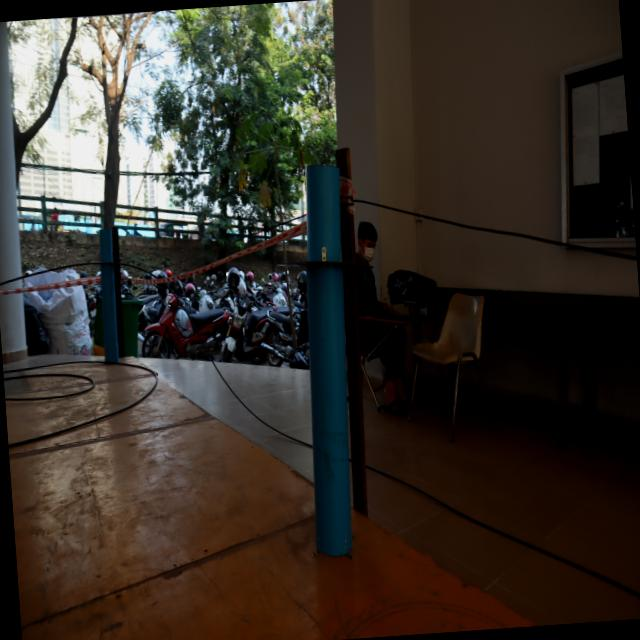pole: (263, 149, 386, 362), (86, 222, 128, 296)
